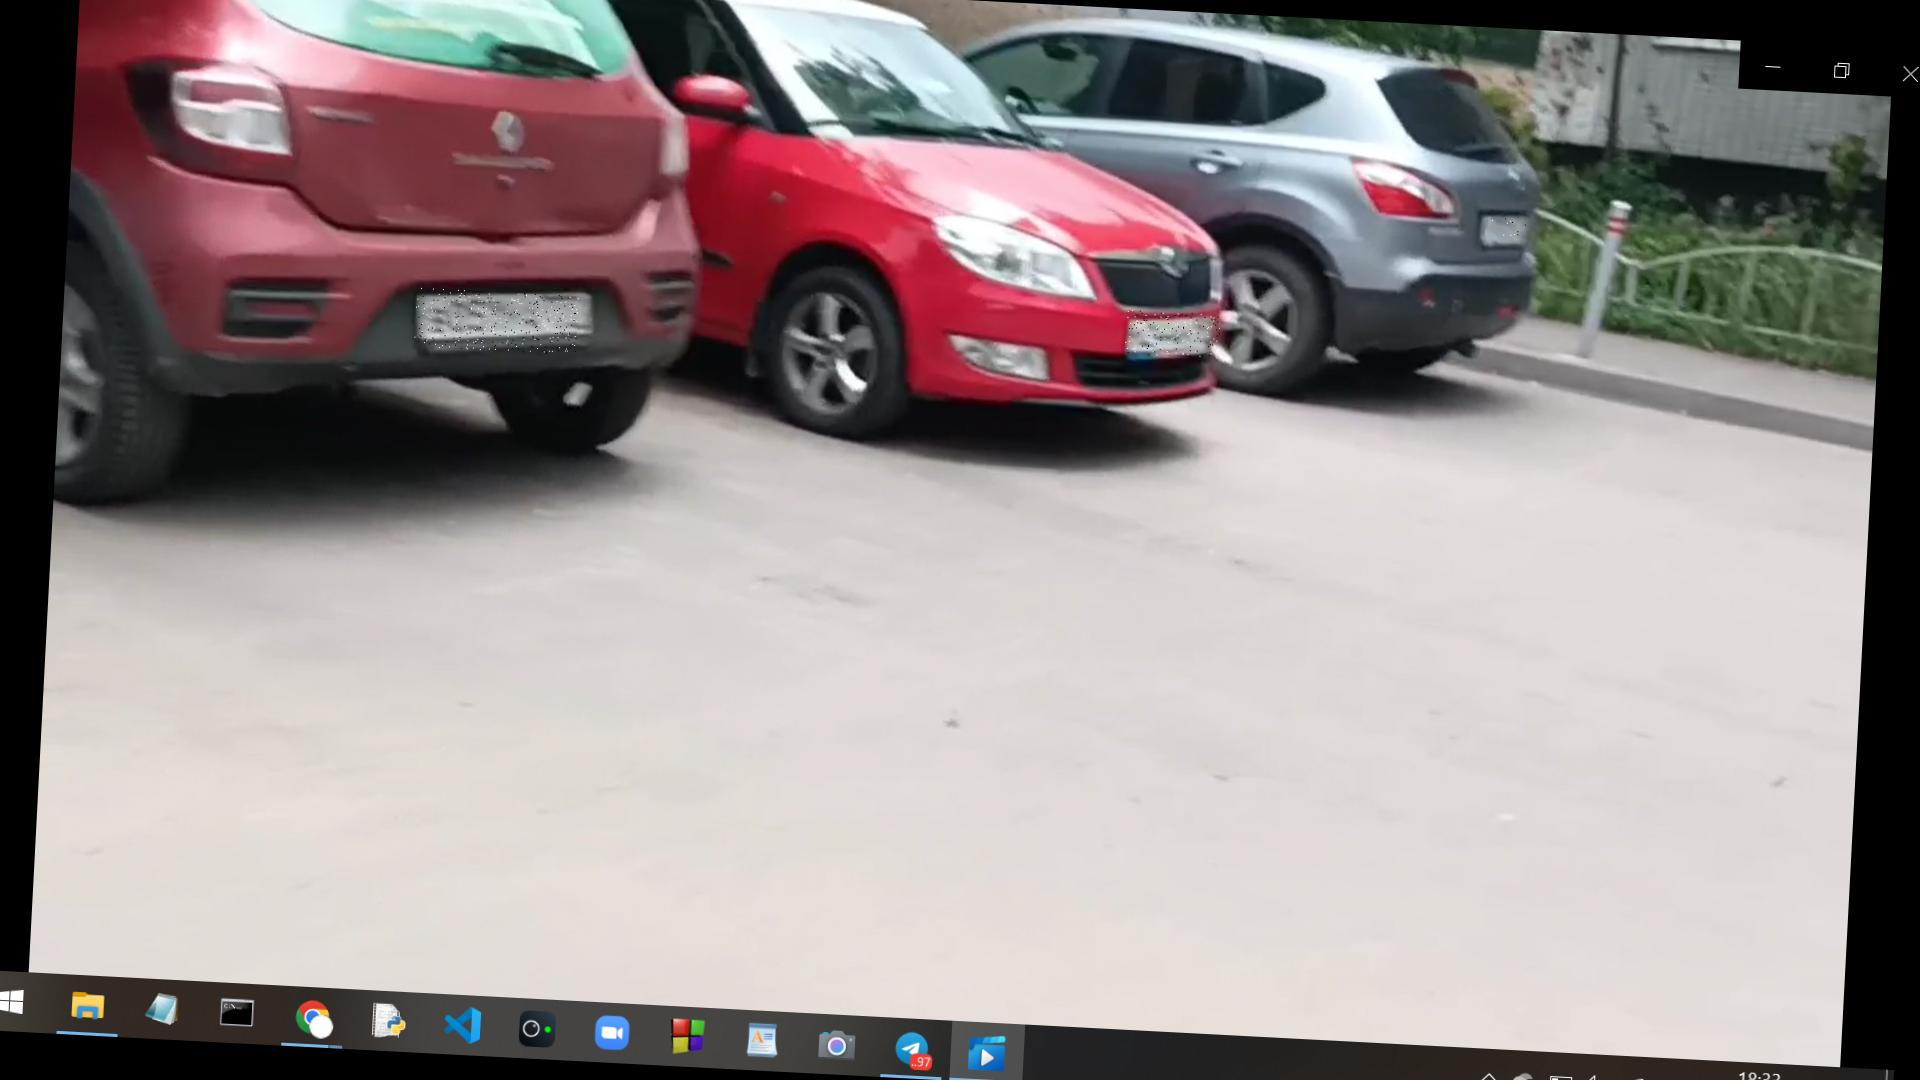plate: (416, 290, 581, 357), (1126, 311, 1223, 360), (1486, 219, 1533, 239)
